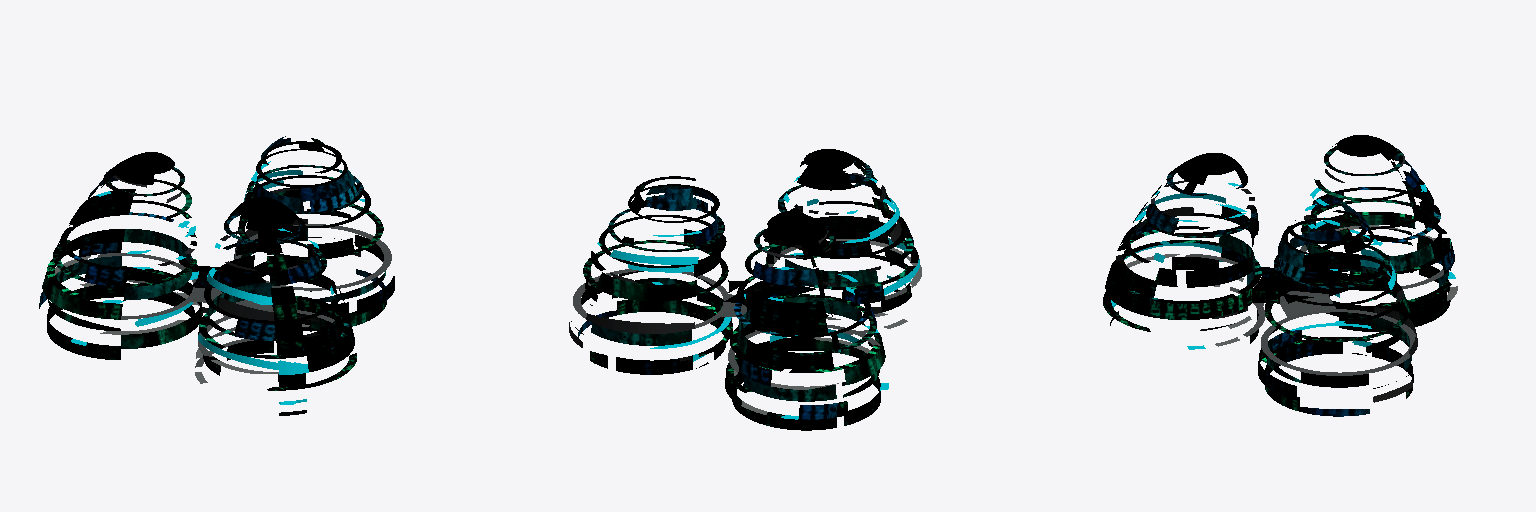
The picture shows the model from 3 angles: view 1: azimuth 30°, elevation 25°; view 2: azimuth 150°, elevation 25°; view 3: azimuth 270°, elevation 25°; orthographic projection.
Parts seen in each view (by area): view 1: Sphere; view 2: Sphere; view 3: Sphere.
Boxes of the visible parts, <box> form: Sphere: <box>39,136,394,415</box>; Sphere: <box>569,149,921,430</box>; Sphere: <box>1103,135,1457,416</box>.
Size of the model in its own units: 4.9 by 2.57 by 4.79.
2 materials, 1 textured.